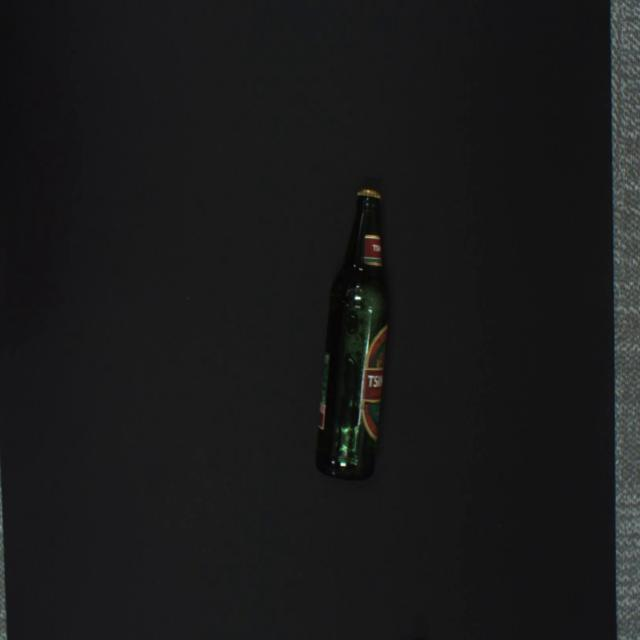beer-bottle: (316, 188, 391, 480)
